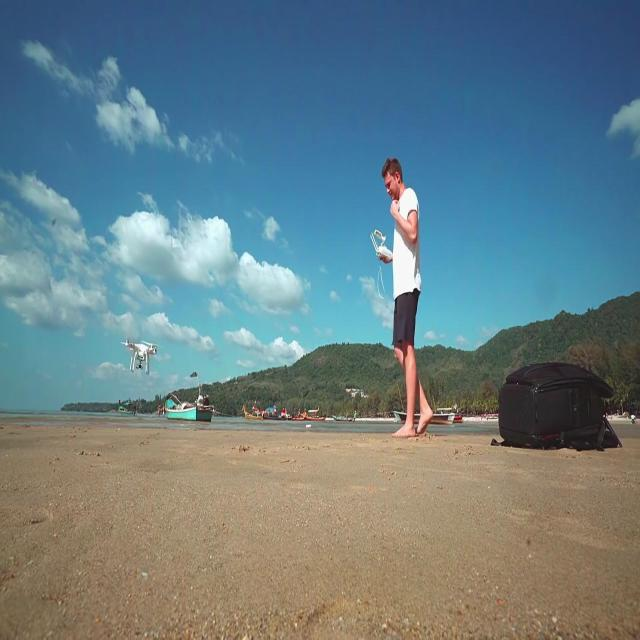drone: (122, 338, 158, 377)
